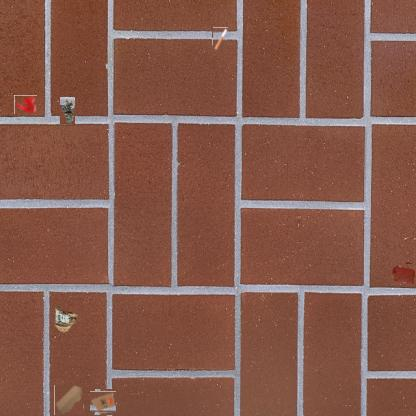dirty: (54, 385, 84, 416), (52, 304, 78, 334), (92, 390, 115, 414), (60, 96, 76, 124), (212, 27, 228, 50)
liquid: (392, 262, 416, 285), (14, 95, 37, 114)
